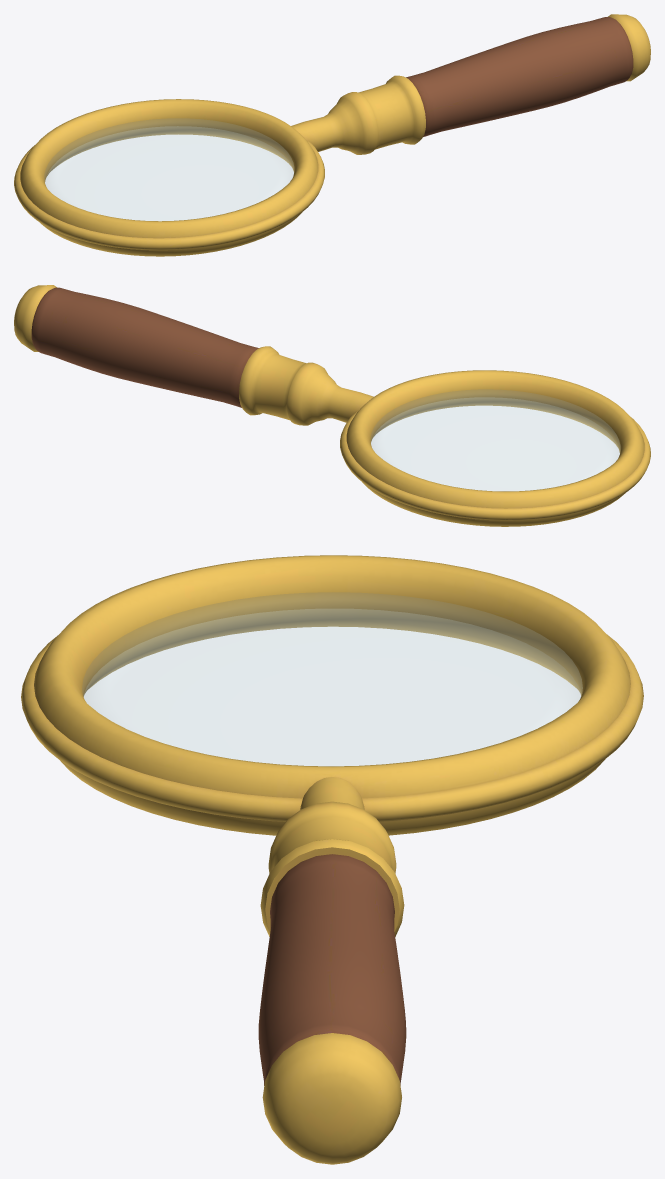
The model's file is magnifying-glass.glb.
3 renders of one model, top to bottom at view 1: azimuth 30°, elevation 25°; view 2: azimuth 150°, elevation 25°; view 3: azimuth 270°, elevation 25°, orthographic. The views are drawn at different scales.
Parts seen in each view (by area): view 1: magnifying-glass_body, magnifying-glass_lens_glass; view 2: magnifying-glass_body, magnifying-glass_lens_glass; view 3: magnifying-glass_body, magnifying-glass_lens_glass.
Boxes of the visible parts, x1,y1,x2,y2 form: magnifying-glass_body: (14, 14, 650, 256); magnifying-glass_lens_glass: (45, 119, 293, 220); magnifying-glass_body: (14, 285, 650, 526); magnifying-glass_lens_glass: (371, 390, 619, 490); magnifying-glass_body: (21, 555, 643, 1164); magnifying-glass_lens_glass: (82, 592, 582, 765).
Bounding box in the file's own units: 0.2548 × 0.0295 × 0.113.
Materials: 2 (1 with a texture image).
